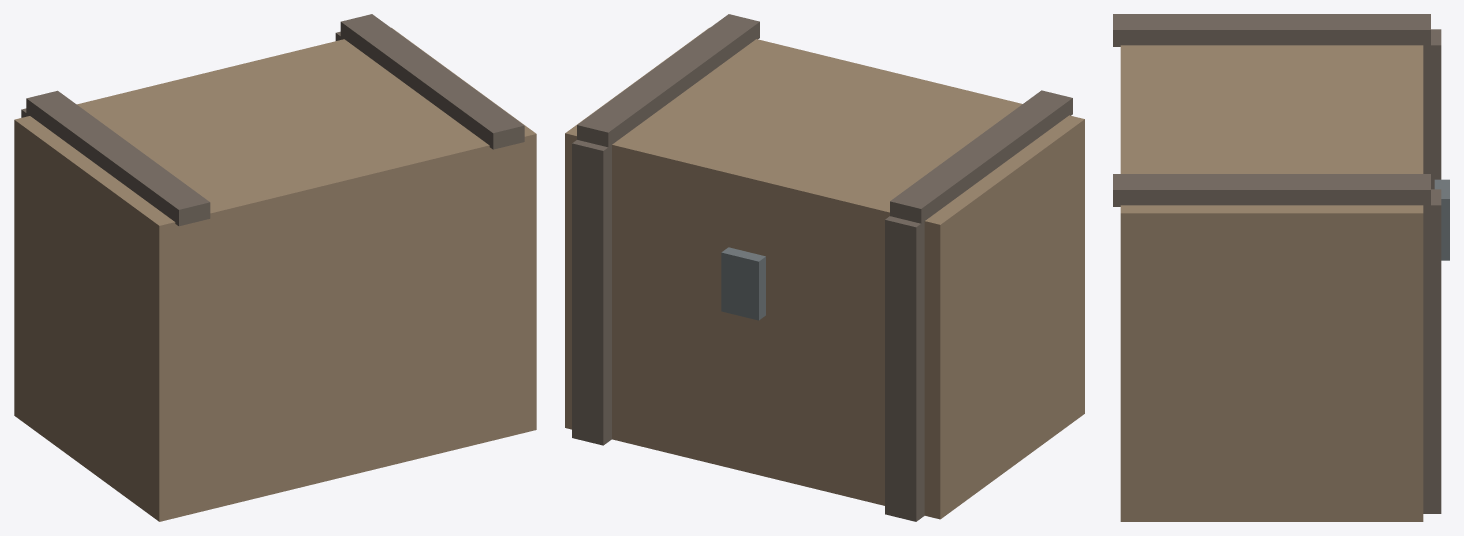
Rendered from storage_crate.glb.
The picture shows the model from 3 angles, left to right: view 1: azimuth 30°, elevation 25°; view 2: azimuth 150°, elevation 25°; view 3: azimuth 270°, elevation 25°; orthographic projection. The views are drawn at different scales.
Visible parts, largest first — view 1: body; view 2: body; view 3: body.
Boxes of the visible parts, x1=… form: body: x1=14, y1=14, x2=536, y2=521; body: x1=565, y1=14, x2=1084, y2=521; body: x1=1113, y1=14, x2=1449, y2=521.
Size of the model in its own units: 1.2 by 0.945 by 0.89.
